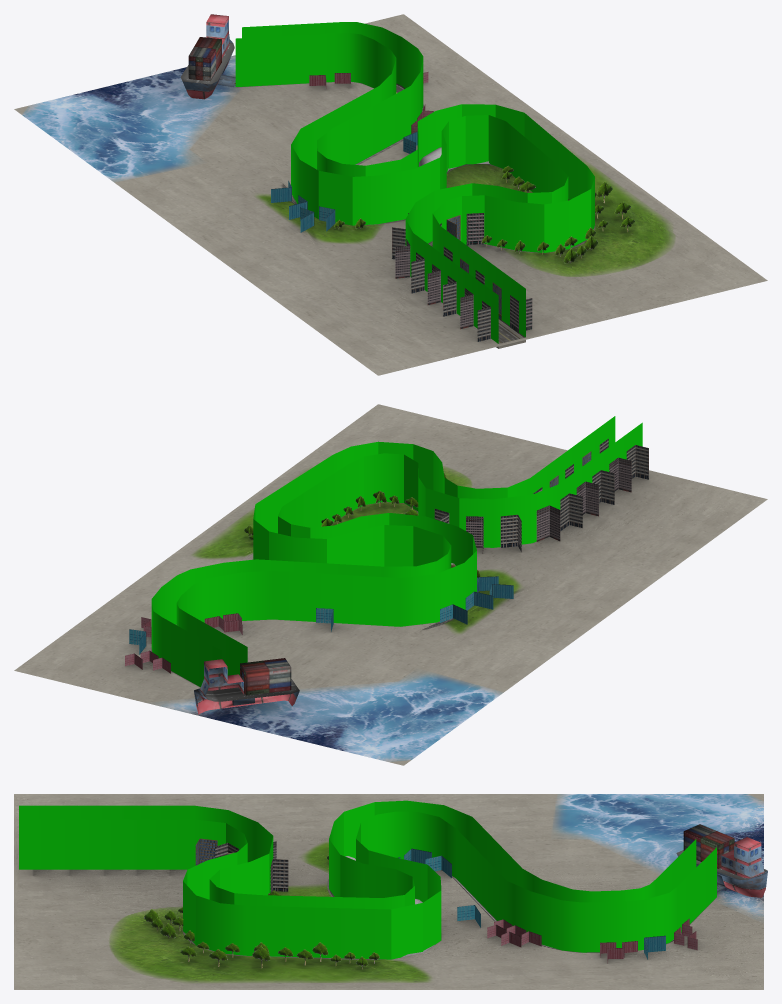
Rendered from environment_v2.fbx.
The picture shows the model from 3 angles, top to bottom: view 1: azimuth 30°, elevation 25°; view 2: azimuth 150°, elevation 25°; view 3: azimuth 270°, elevation 25°; orthographic projection. The views are drawn at different scales.
Parts seen in each view (by area): view 1: terrain, barrier, buildings, ship, cargocontainers, trees; view 2: terrain, barrier, buildings, ship, cargocontainers, trees; view 3: terrain, barrier, ship, cargocontainers, trees, buildings.
Part boxes in pixels (x1,y1,x2,y2): terrain: (14,14,767,375); barrier: (235,22,594,343); buildings: (392,213,532,341); ship: (180,14,235,99); cargocontainers: (271,72,433,232); trees: (334,166,634,263); terrain: (14,404,767,765); barrier: (151,416,642,687); buildings: (434,438,648,553); ship: (194,658,299,714); cargocontainers: (125,576,513,673); trees: (244,472,480,577); terrain: (14,794,763,989); barrier: (19,800,716,959); ship: (676,824,767,897); cargocontainers: (398,848,697,963); trees: (144,855,379,969); buildings: (195,838,288,892).
Size of the model in its own units: 232 by 32.29 by 378.
Materials: 3 (2 with a texture image).
